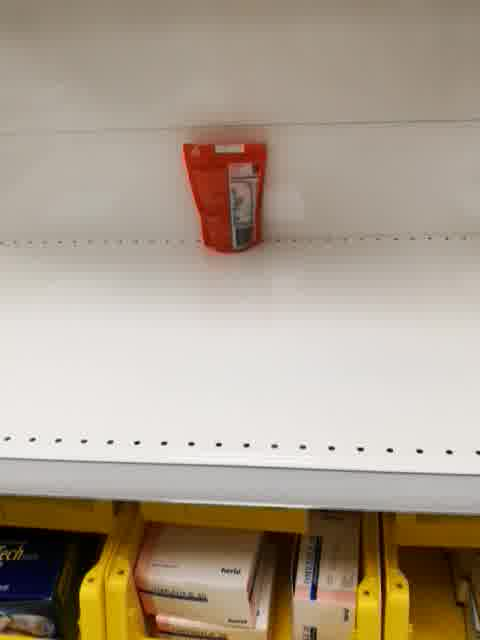whitechia: (182, 135, 268, 255)
